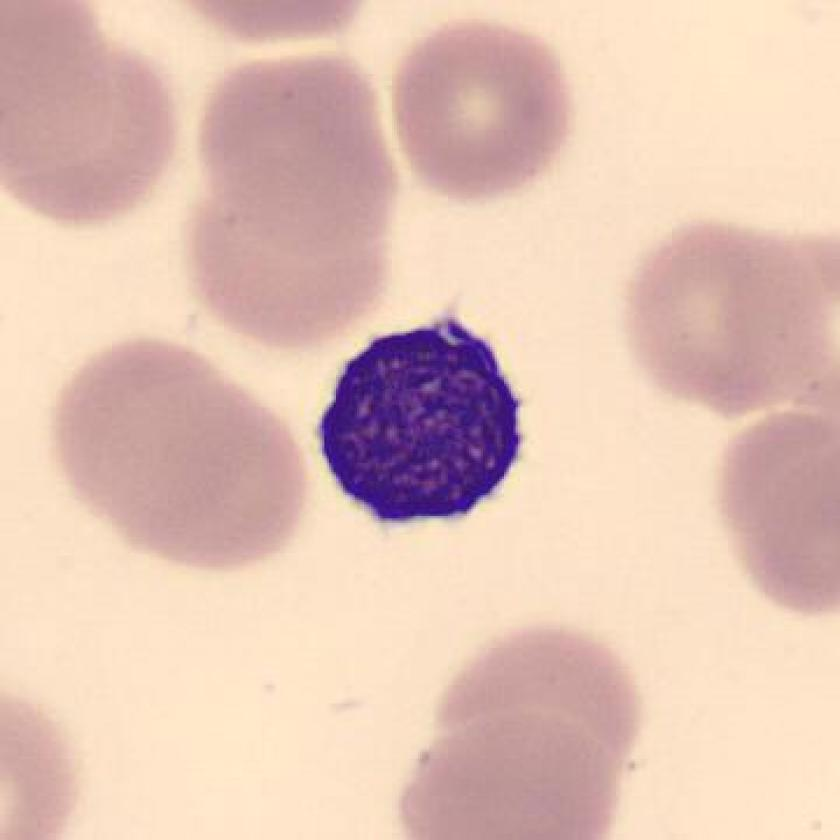lymphocyte: (293, 293, 542, 547)
